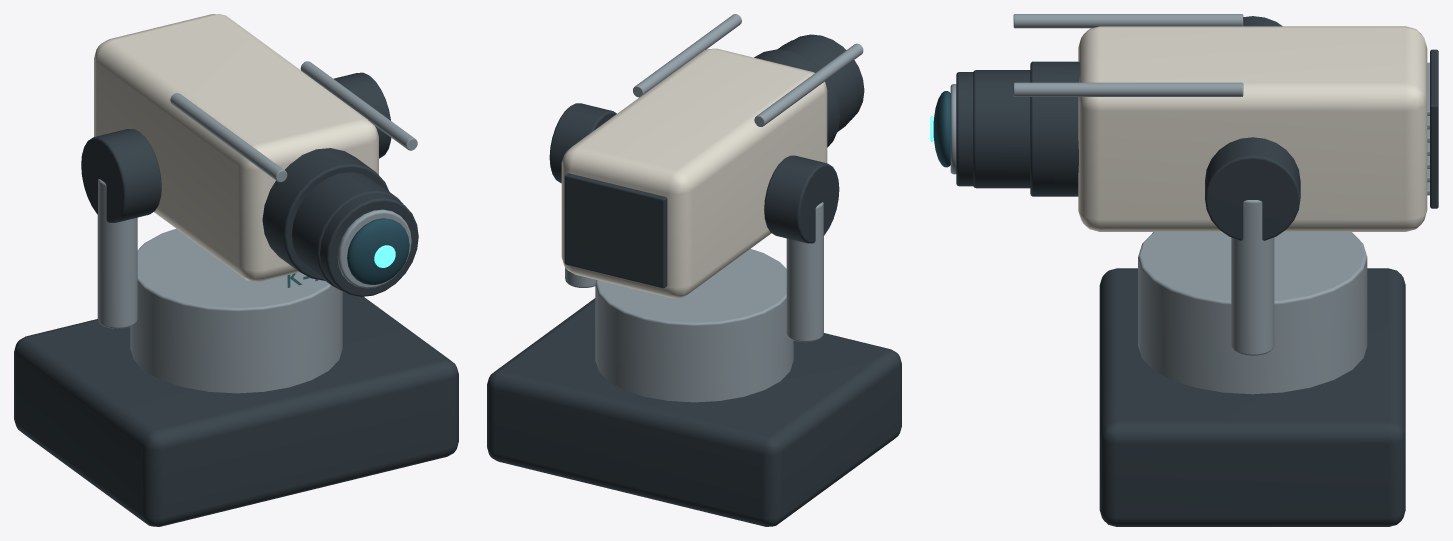
The model's file is optical_array.glb.
3 views of the same model, side by side, from view 1: azimuth 30°, elevation 25°; view 2: azimuth 150°, elevation 25°; view 3: azimuth 270°, elevation 25° (orthographic). The views are drawn at different scales.
Parts seen in each view (by area): view 1: OpticalArray_mesh, OpticsGimbal_mesh; view 2: OpticalArray_mesh, OpticsGimbal_mesh; view 3: OpticsGimbal_mesh, OpticalArray_mesh.
Part boxes in pixels (x1,y1,x2,y2): OpticalArray_mesh: [14, 179, 458, 526]; OpticsGimbal_mesh: [81, 14, 418, 296]; OpticalArray_mesh: [487, 202, 901, 526]; OpticsGimbal_mesh: [549, 14, 864, 298]; OpticsGimbal_mesh: [930, 14, 1438, 240]; OpticalArray_mesh: [1099, 200, 1405, 526].
Size of the model in its own units: 0.82 by 0.925 by 1.06.
